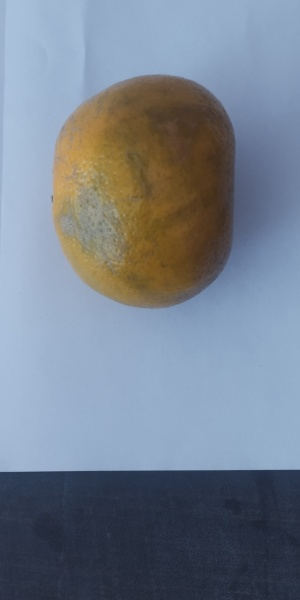BAD: (52, 78, 241, 310)
